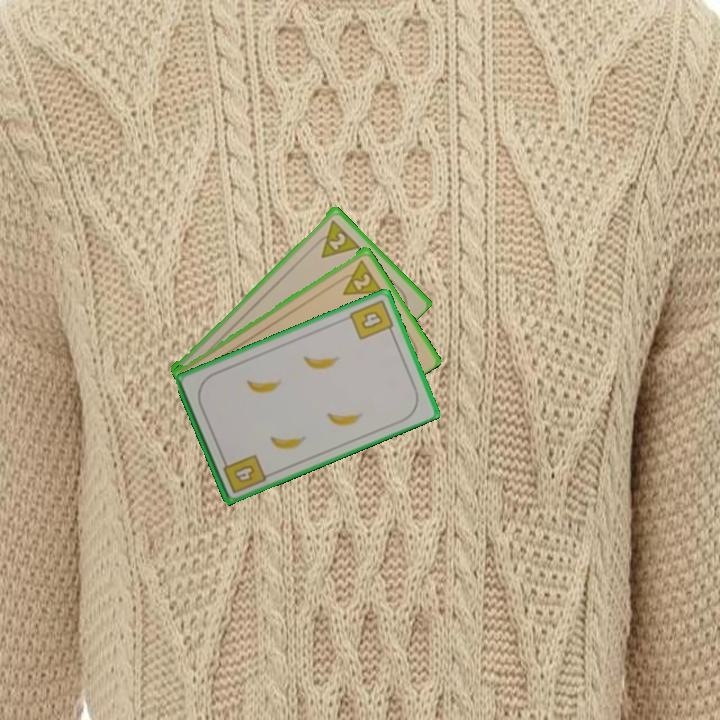2p: (310, 216, 362, 261), (333, 256, 385, 298)
4b: (346, 296, 397, 343), (219, 450, 269, 496)
